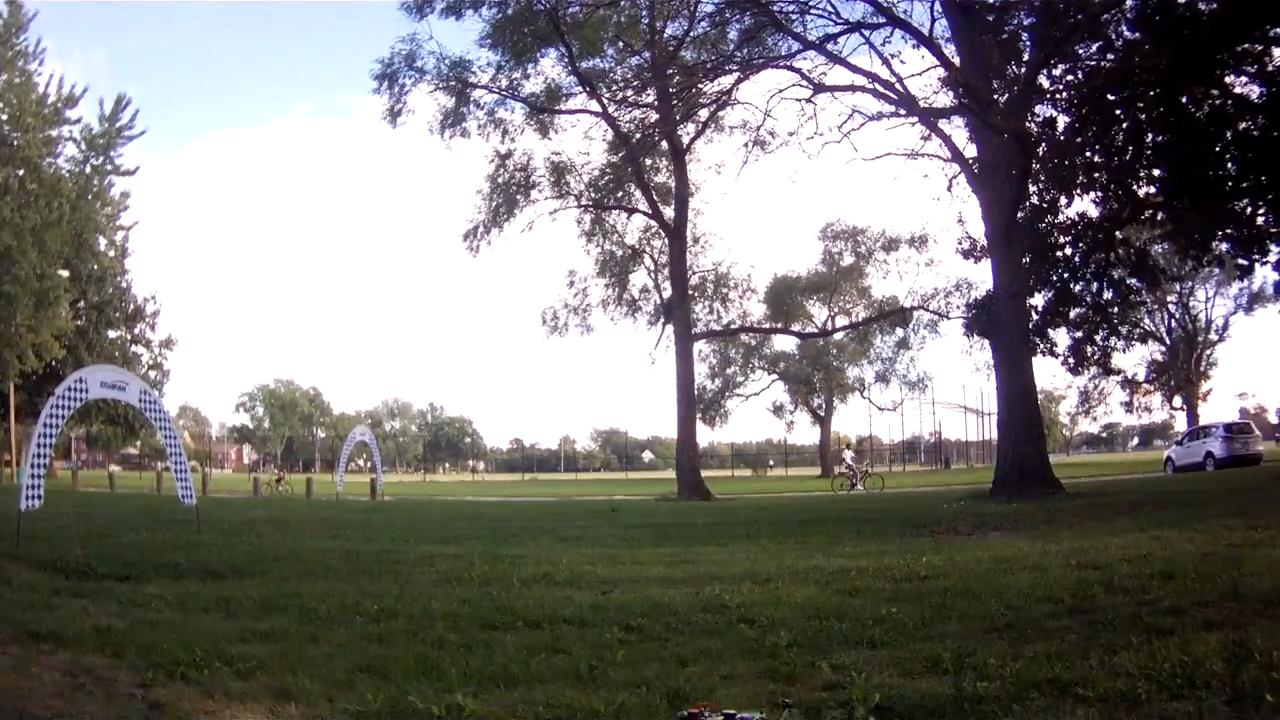gate: (16, 360, 199, 512)
